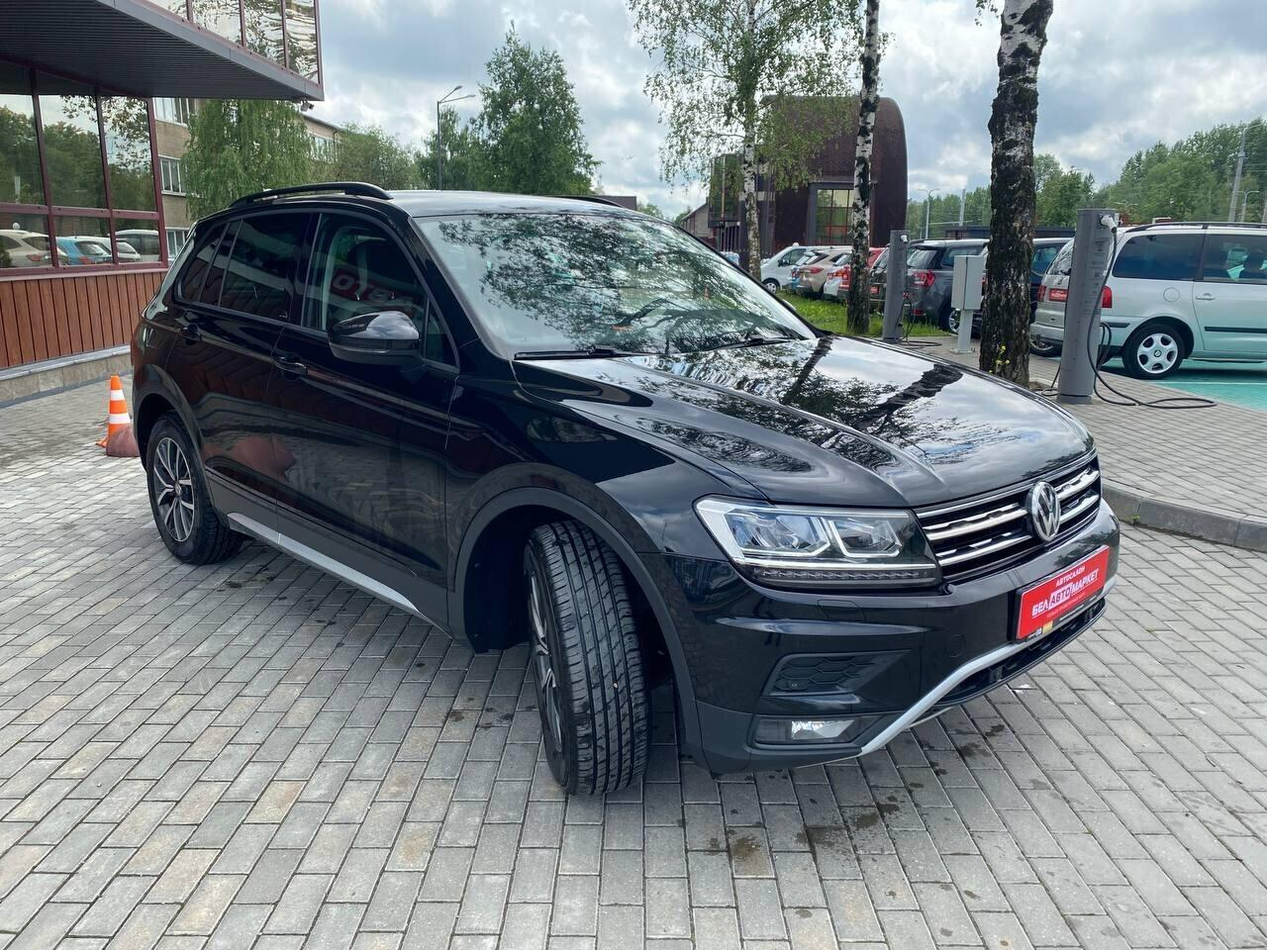Tiguan_2016-2021: (125, 186, 1122, 773)
